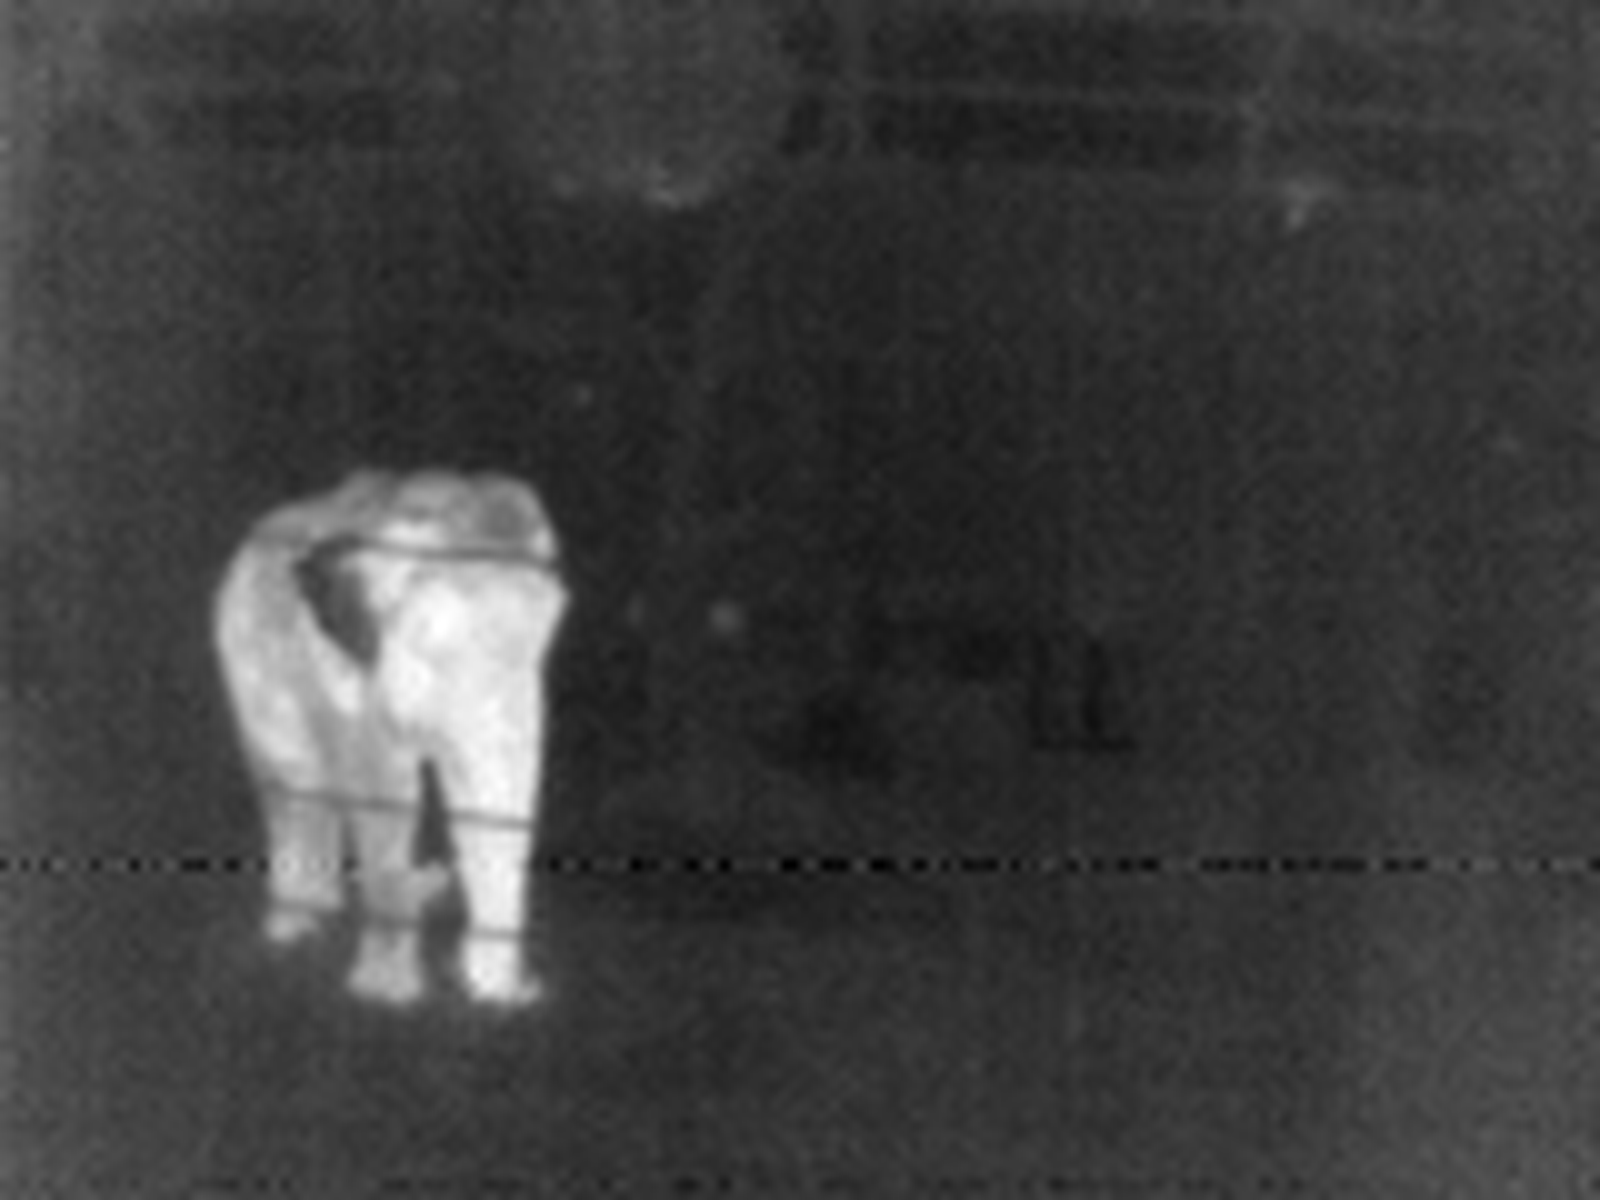elephant: (123, 451, 590, 1000)
